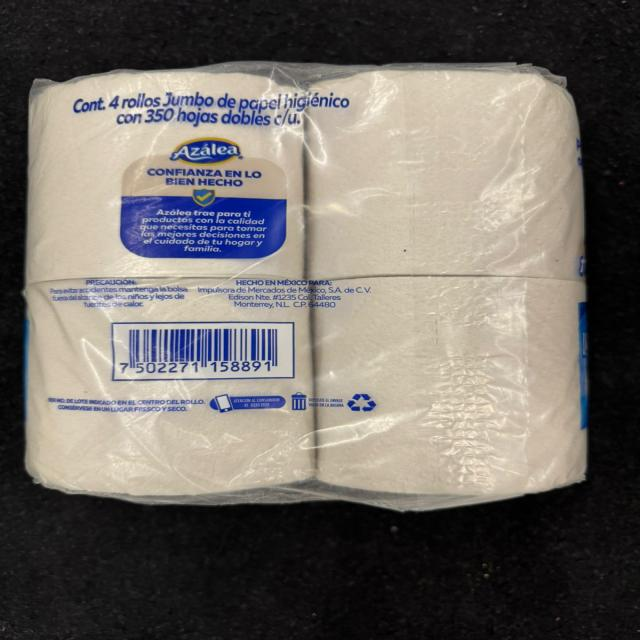PAPEL HIGIENICO AZALEA 4 ROLLOS 350 HOJAS: (30, 61, 620, 518)
